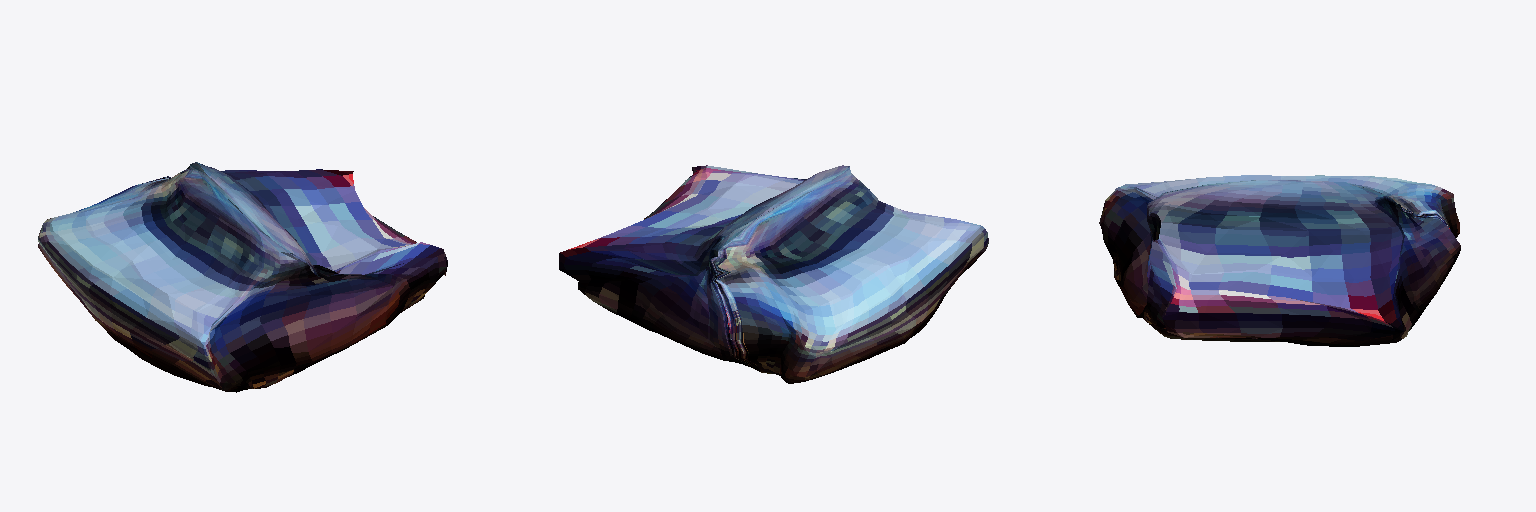
3 renders of one model, left to right at view 1: azimuth 30°, elevation 25°; view 2: azimuth 150°, elevation 25°; view 3: azimuth 270°, elevation 25°, orthographic.
Bounding box in the file's own units: 0.9778 × 0.3953 × 1.
1 materials, 1 textured.